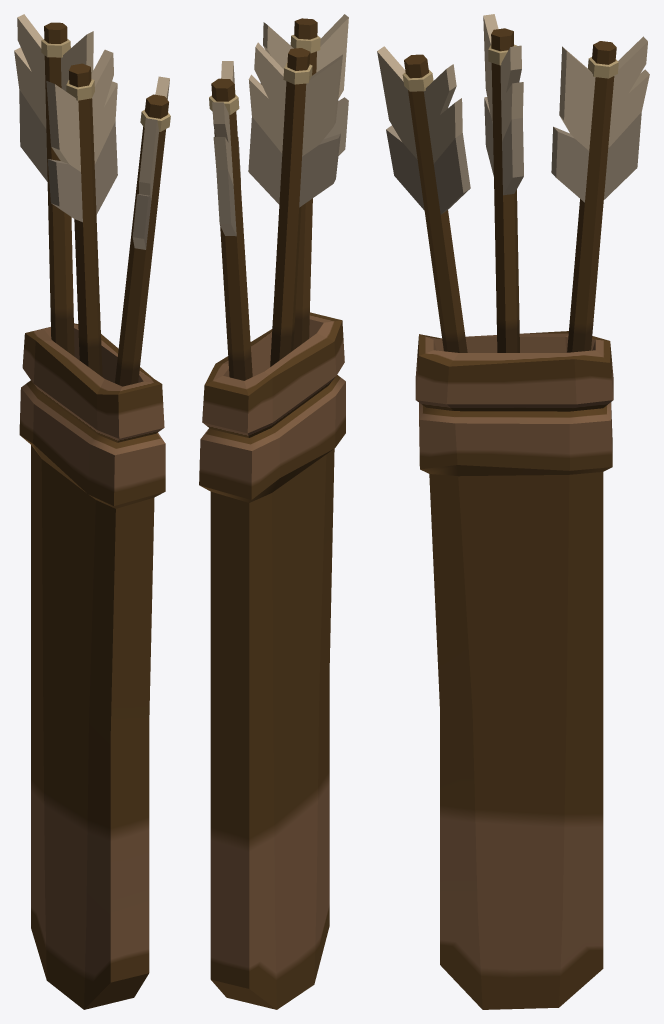
The model's file is SM_Prop_Quiver_01.fbx.
3 views of the same model, side by side, from view 1: azimuth 30°, elevation 25°; view 2: azimuth 150°, elevation 25°; view 3: azimuth 270°, elevation 25° (orthographic). The views are drawn at different scales.
Visible parts, largest first — view 1: SM_Prop_Quiver_01; view 2: SM_Prop_Quiver_01; view 3: SM_Prop_Quiver_01.
Part boxes in pixels (x1,y1,x2,y2): SM_Prop_Quiver_01: [14, 14, 170, 1009]; SM_Prop_Quiver_01: [199, 14, 348, 1009]; SM_Prop_Quiver_01: [377, 14, 649, 1009].
Bounding box in the file's own units: 10.53 × 92.82 × 23.93.
